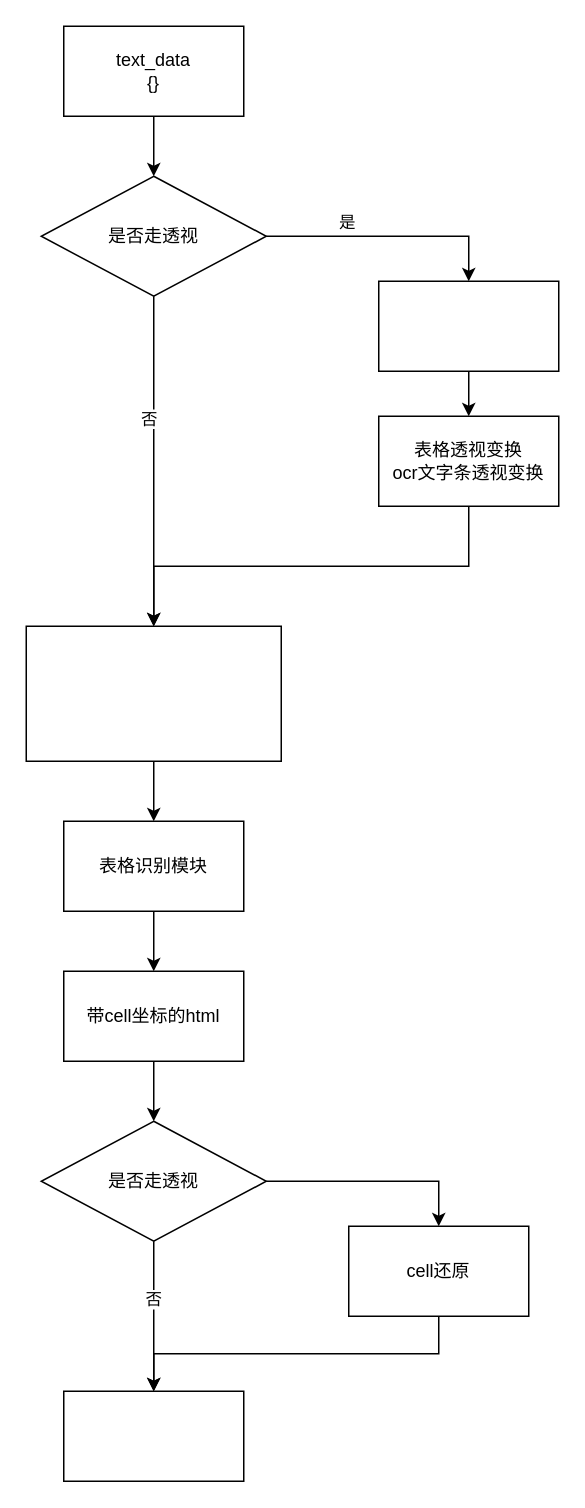
Some shapes in this 585 by 1508 pixel diagram are drawn without their labels. The shapes that lost their labels are listed below. From the top down, each one's box as (x1, y1, x2, y2) in pixels, then its label:
(377, 280, 559, 371): 角点检测/mask检测
(25, 625, 281, 761): 表格图片1+表格内ocr结果1 表格图片2+表格内ocr结果2 表格图片1+表格内ocr结果3 . .
(62, 1390, 244, 1481): 返回结果
